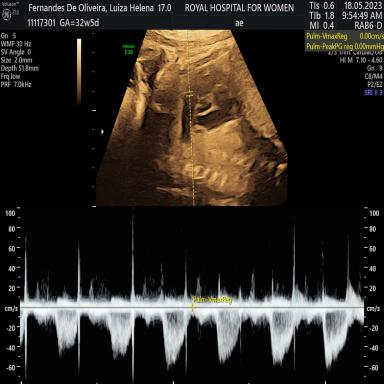Ultrasound-Waves: (27, 211, 362, 384)
